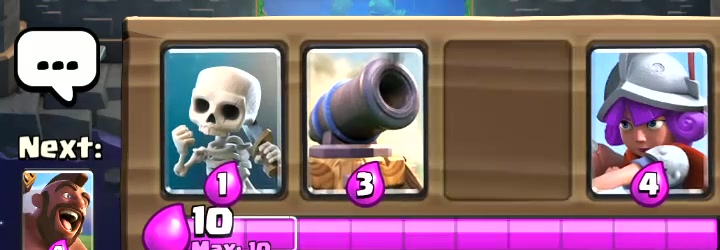cannon: (315, 51, 427, 195)
hog-rider: (23, 171, 93, 250)
musketeer: (596, 46, 709, 200)
